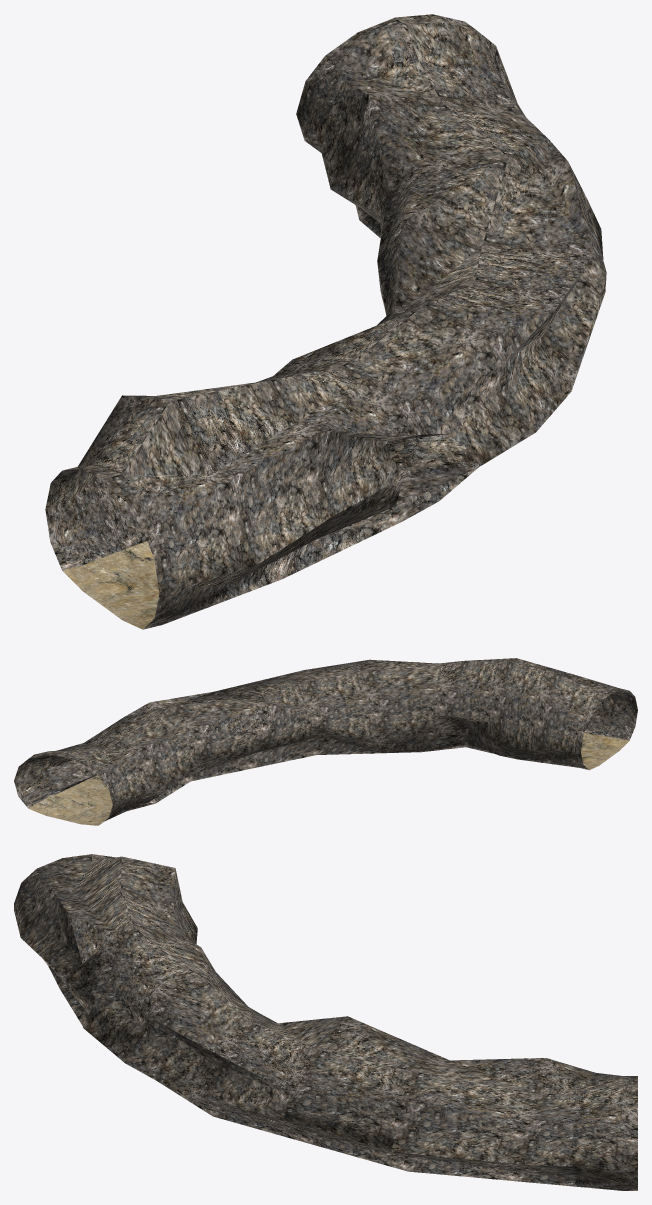
The model's file is pir_m_are_cav_curveNarrow.fbx.
3 views of the same model, one above another, from view 1: azimuth 30°, elevation 25°; view 2: azimuth 150°, elevation 25°; view 3: azimuth 270°, elevation 25° (orthographic). The views are drawn at different scales.
Visible parts, largest first — view 1: curveNarrow_wall, curveNarrow_floor; view 2: curveNarrow_wall, curveNarrow_floor; view 3: curveNarrow_wall.
Part boxes in pixels (x1,y1,x2,y2): curveNarrow_wall: (45, 14, 606, 629); curveNarrow_floor: (62, 541, 159, 629); curveNarrow_wall: (14, 658, 637, 821); curveNarrow_floor: (29, 733, 629, 825); curveNarrow_wall: (14, 854, 637, 1190).
Bounding box in the file's own units: 20000 × 4057 × 20000.
2 materials, 2 textured.
